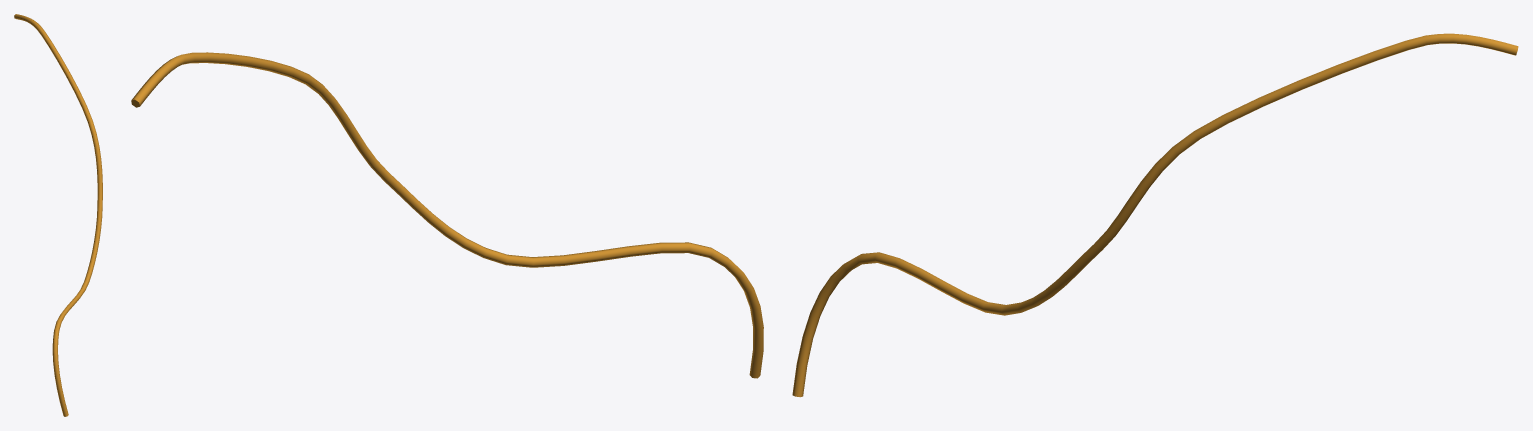
The model's file is SM_橡皮管_001.fbx.
3 renders of one model, left to right at view 1: azimuth 30°, elevation 25°; view 2: azimuth 150°, elevation 25°; view 3: azimuth 270°, elevation 25°, orthographic. The views are drawn at different scales.
Visible parts, largest first — view 1: SM_橡皮管_001; view 2: SM_橡皮管_001; view 3: SM_橡皮管_001.
Part boxes in pixels (box(x1,y1,x2,y2)): SM_橡皮管_001: box(14, 14, 102, 416); SM_橡皮管_001: box(131, 52, 763, 378); SM_橡皮管_001: box(792, 33, 1518, 397).
Bounding box in the file's own units: 0.3557 × 0.6011 × 0.8072.
